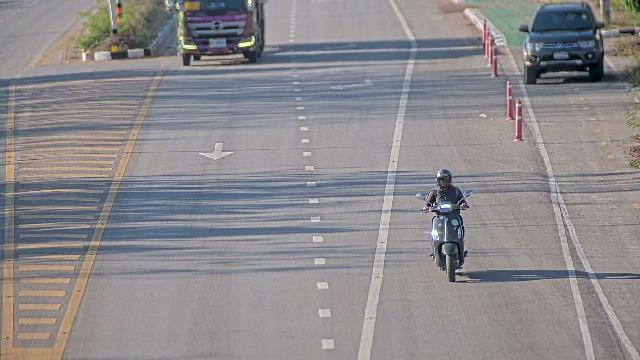motorcycle: (420, 168, 472, 270)
pickup-truck: (518, 1, 606, 84)
truck: (173, 0, 266, 66)
